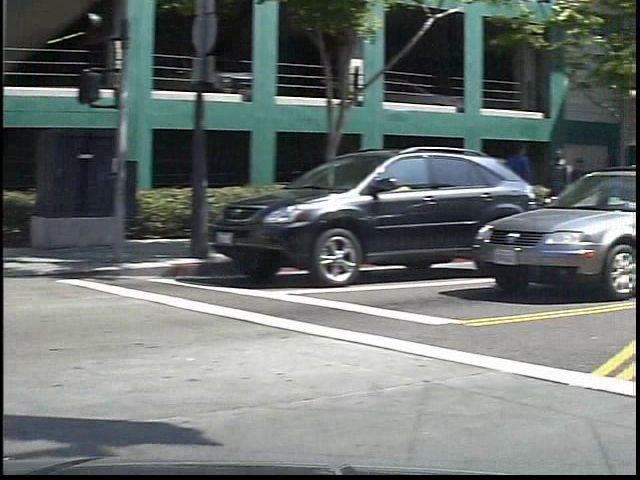person: (518, 142, 555, 241)
